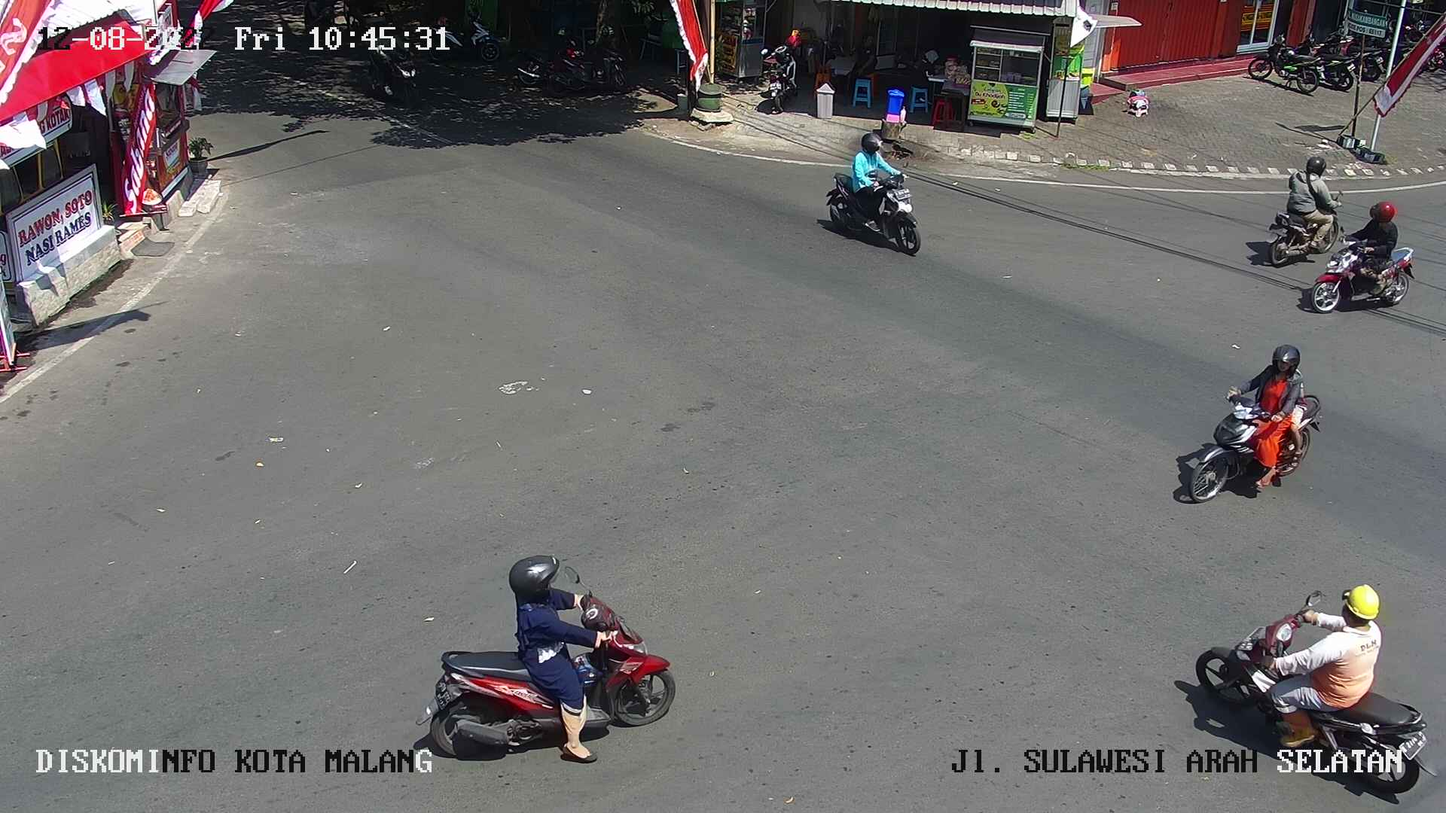with_helmet: (1156, 569, 1439, 786), (437, 540, 674, 792), (1177, 339, 1328, 495), (804, 119, 942, 269), (1298, 198, 1424, 337), (1260, 145, 1342, 266)
